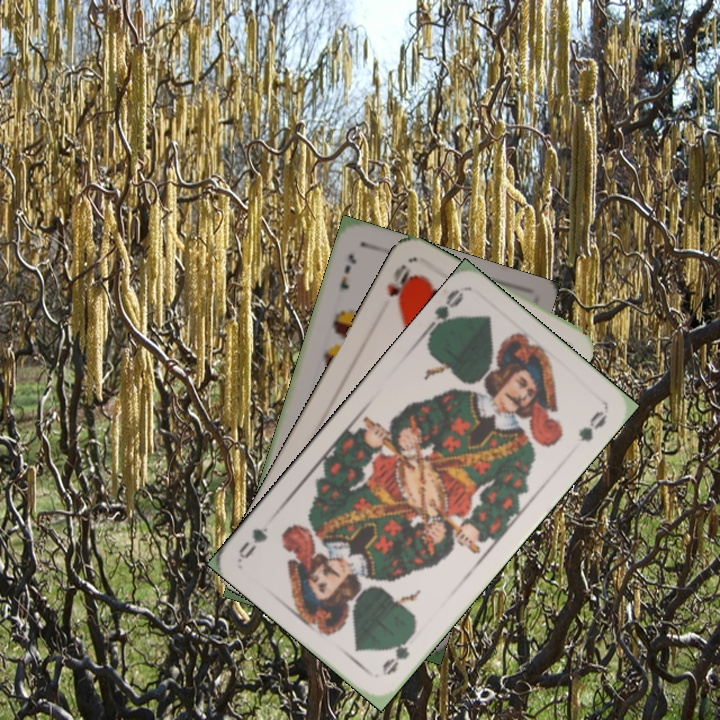E7: (336, 249, 359, 293)
GO: (421, 285, 466, 339), (378, 628, 417, 678)
HO: (383, 260, 417, 308)
